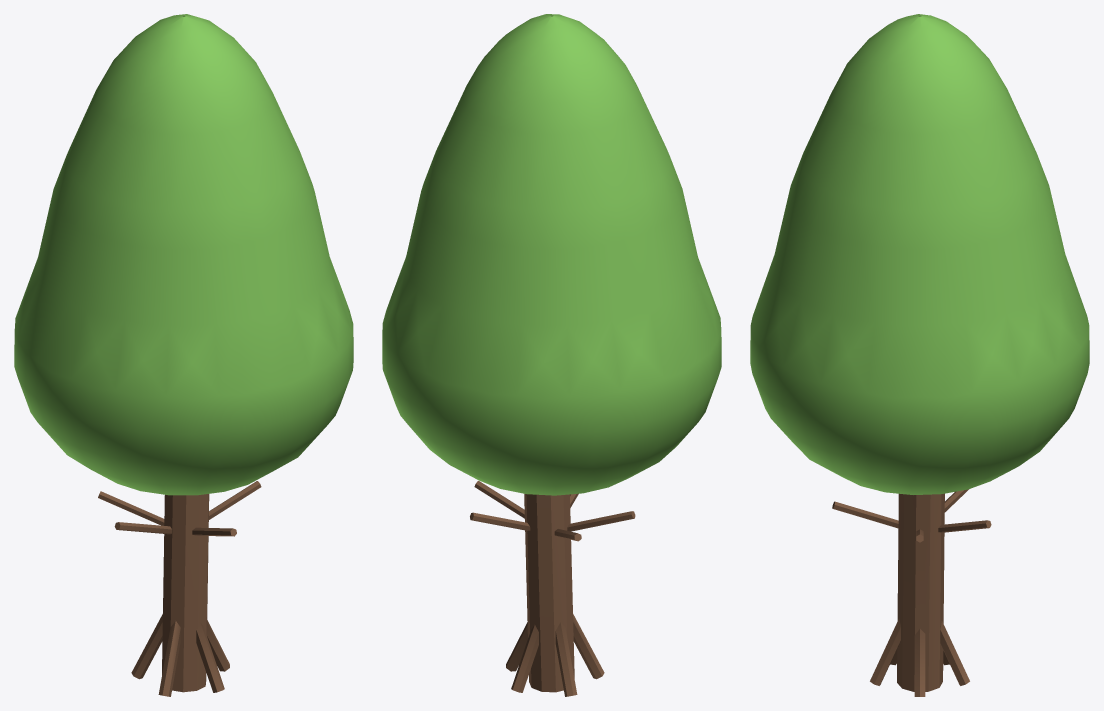
File: pine-low.glb
3 views of the same model, side by side, from view 1: azimuth 30°, elevation 25°; view 2: azimuth 150°, elevation 25°; view 3: azimuth 270°, elevation 25° (orthographic).
Visible parts, largest first — view 1: rounded canopy, trunk; view 2: rounded canopy, trunk; view 3: rounded canopy, trunk.
Boxes of the visible parts, x1,y1,x2,y2 form: rounded canopy: (14,14,353,495); trunk: (98,481,261,696); rounded canopy: (382,14,721,495); trunk: (470,481,635,696); rounded canopy: (750,14,1089,494); trunk: (832,489,991,696).
Bounding box in the file's own units: 1.06 × 2.29 × 1.06.
